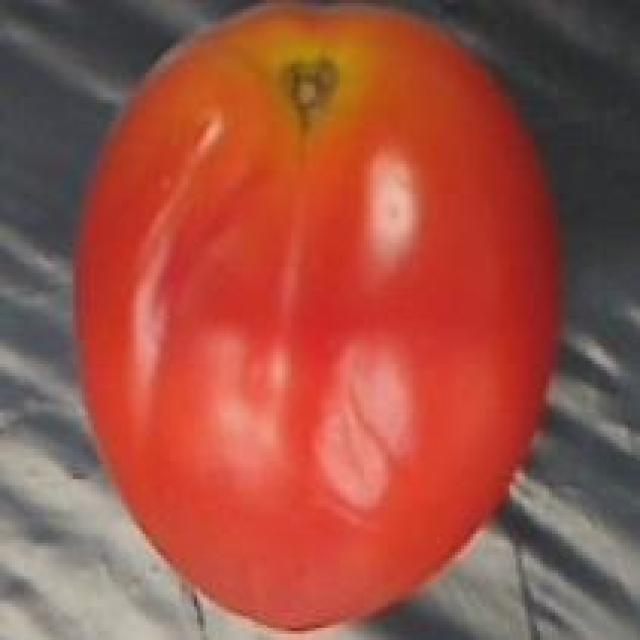overripe tomato: (55, 0, 582, 640)
